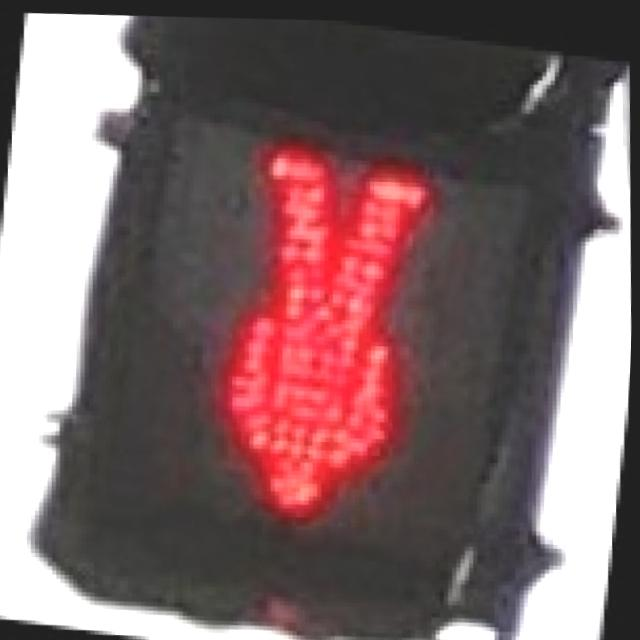red_light: (88, 90, 550, 594)
